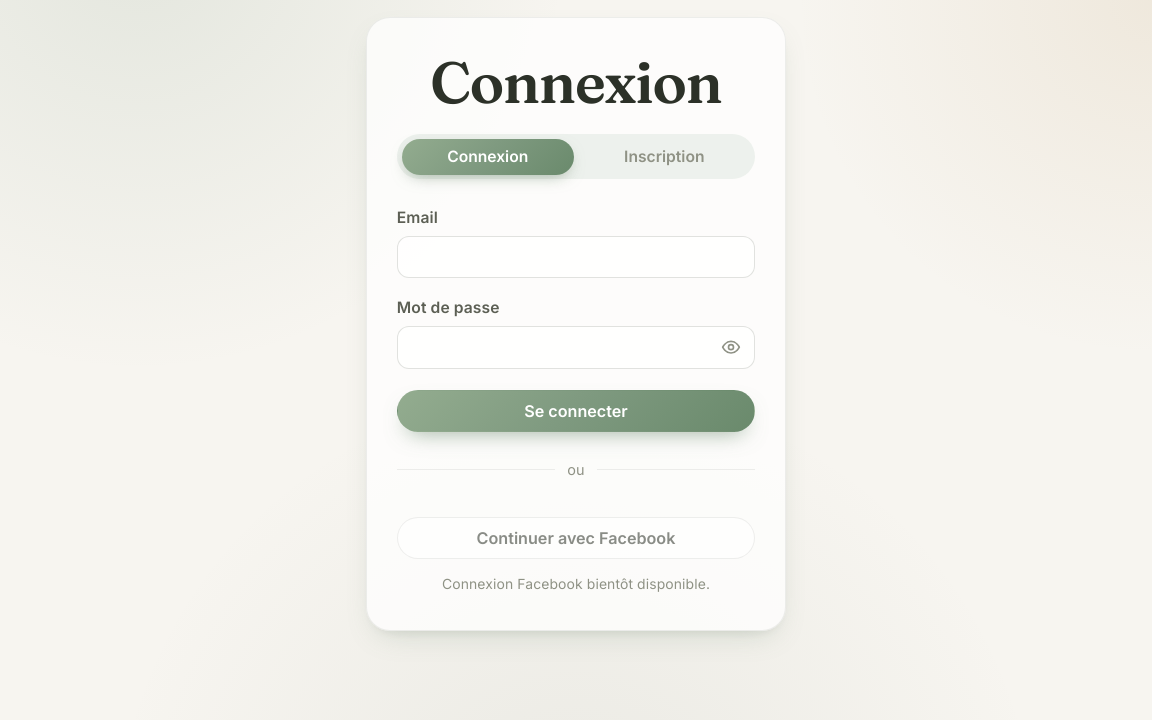
AuthPage › shows the error returned by the API on a failed login
Type "alice@example.com" into the field labelled "Email".
click(576, 257); type("alice@example.com")  # box [397,236,755,278]
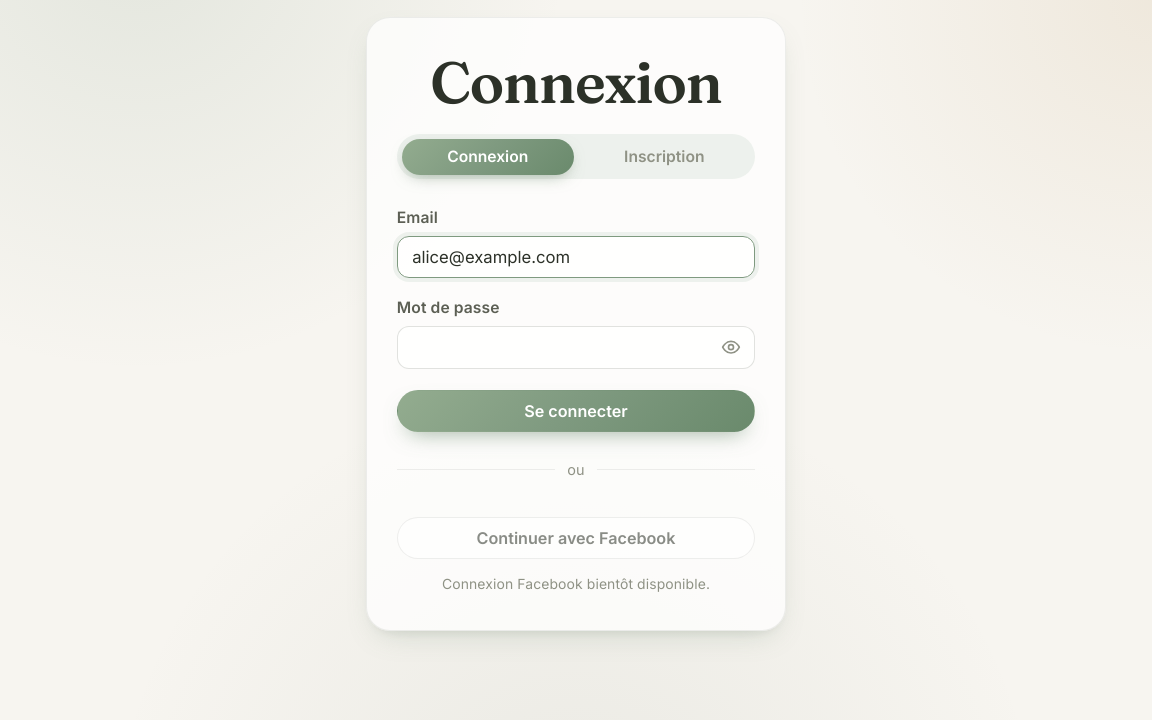
Type "wrong" into the password field labelled "Mot de passe".
click(576, 347); type("wrong")  # box [397,326,755,369]
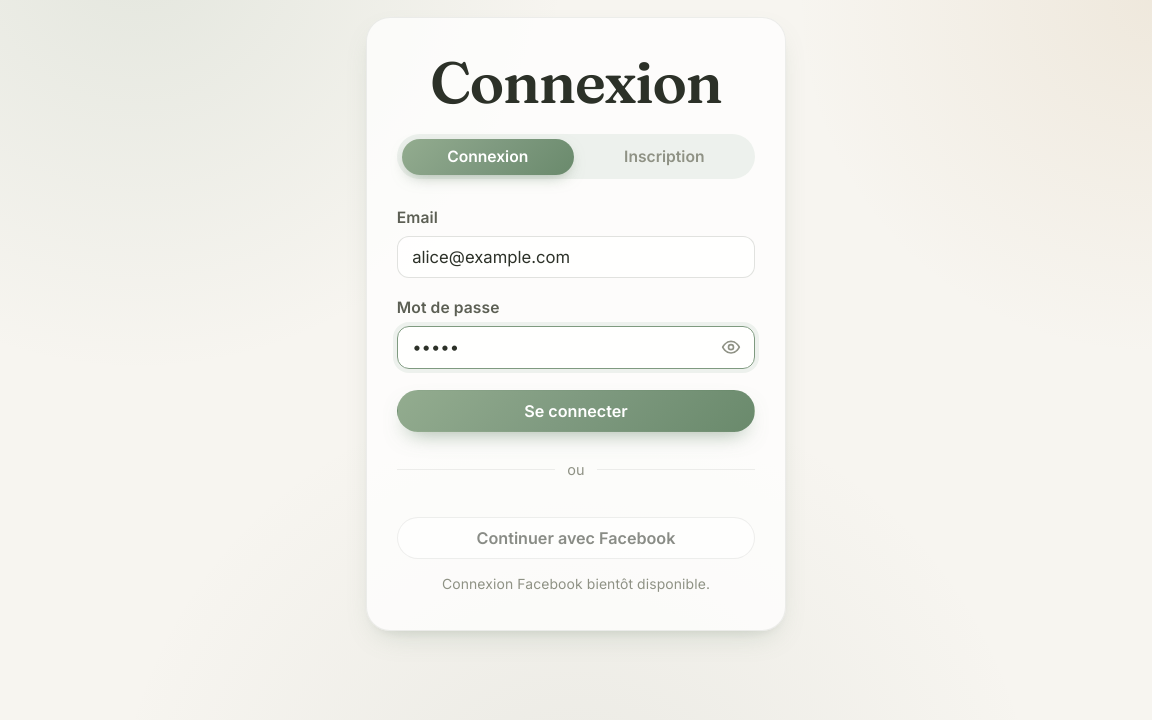
Click the button "Se connecter".
click(576, 411)  # box [397,390,755,432]
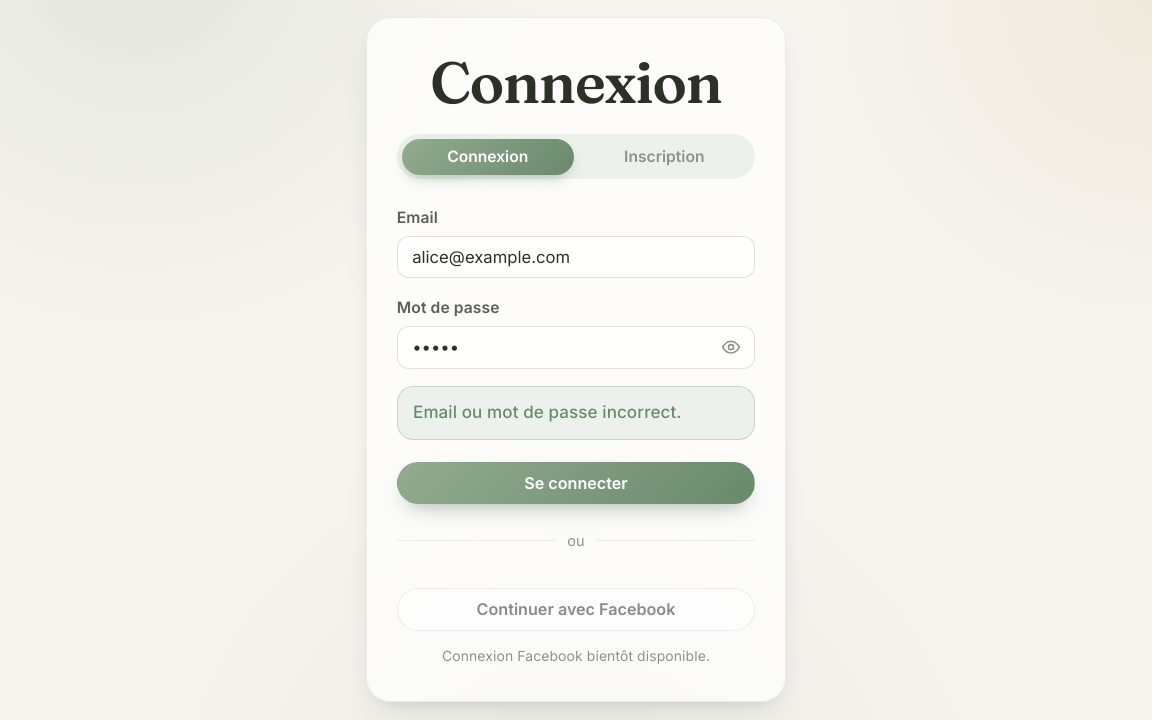
Check: the message reads "Email ou mot de passe incorrect.", box [413,402,682,422]
